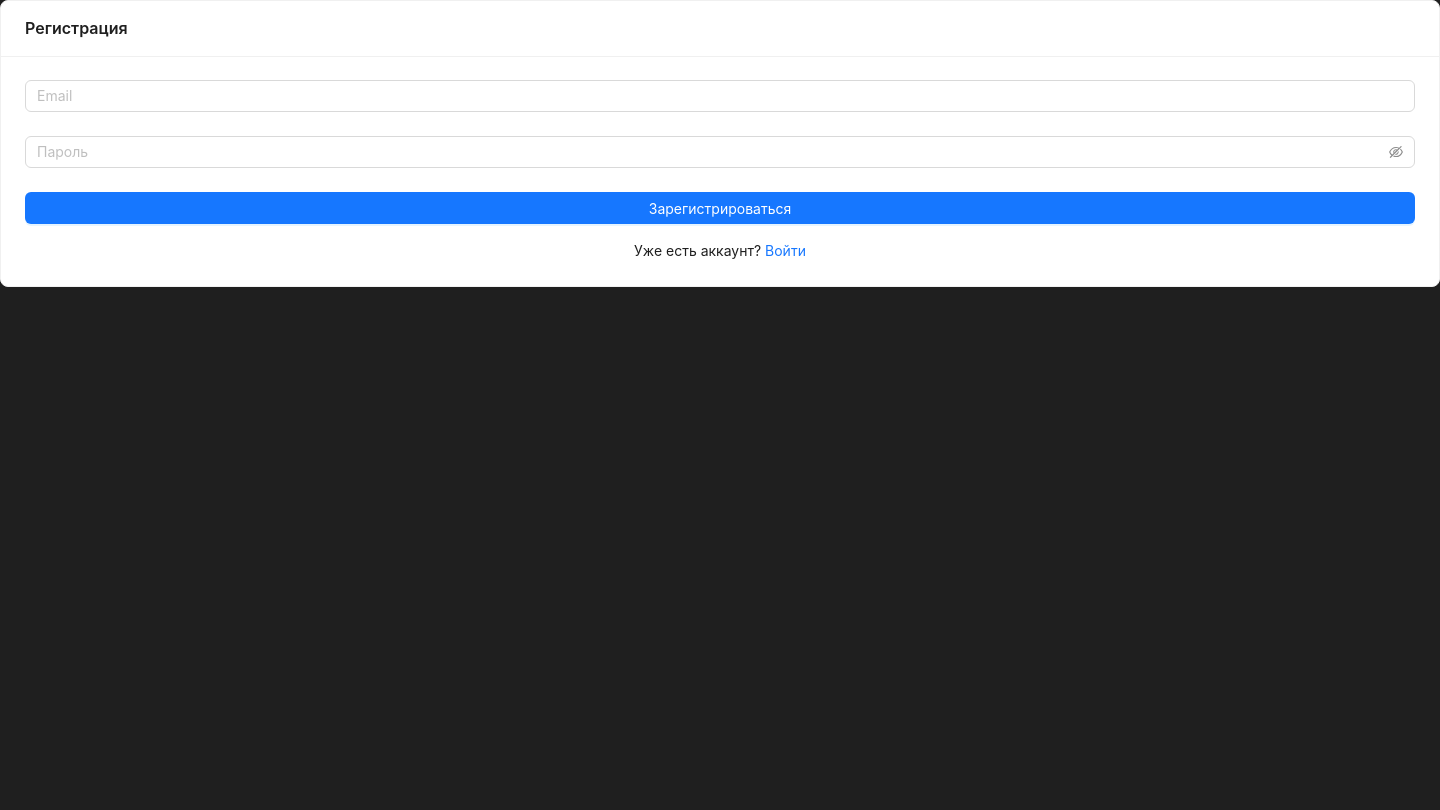
Test case: RegisterForm › при успешной регистрации открывает модалку со ссылкой
Type "new@test.com" into the field with placeholder "Email" at [720, 96], box [25, 80, 1415, 112]
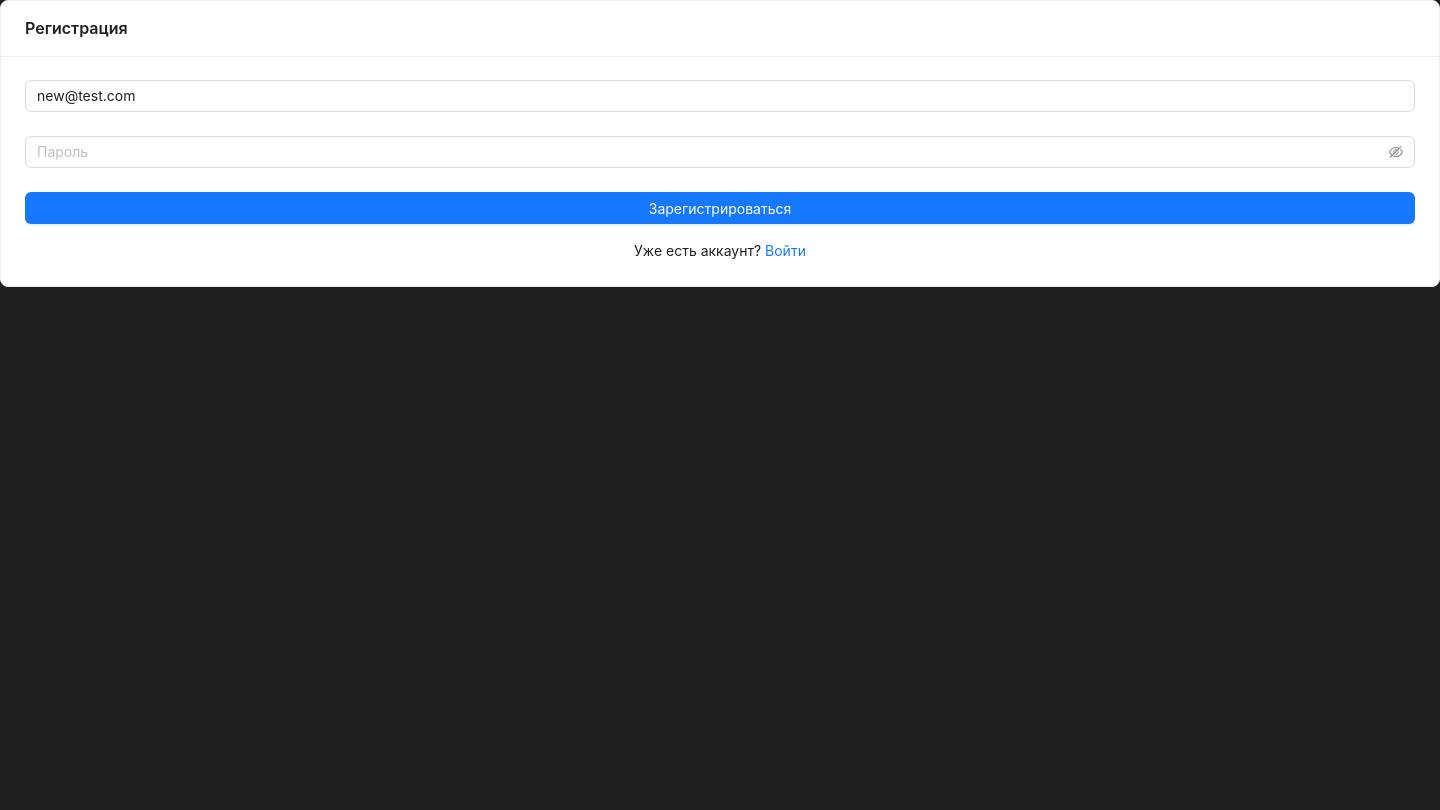
Type "123456" into the password field with placeholder "Пароль" at [711, 152], box [37, 141, 1385, 163]
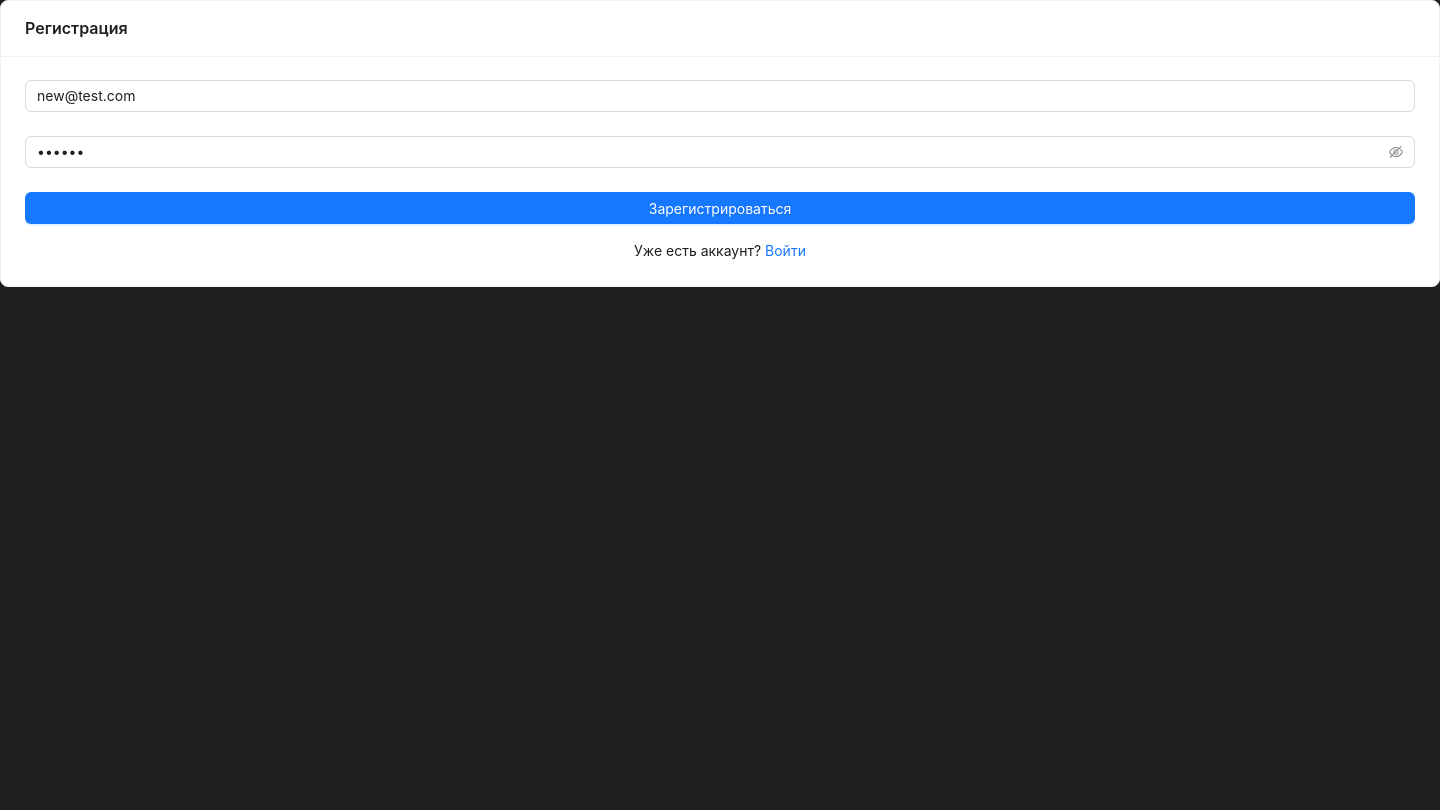
Click the button "Зарегистрироваться" at [720, 208], box [25, 192, 1415, 224]
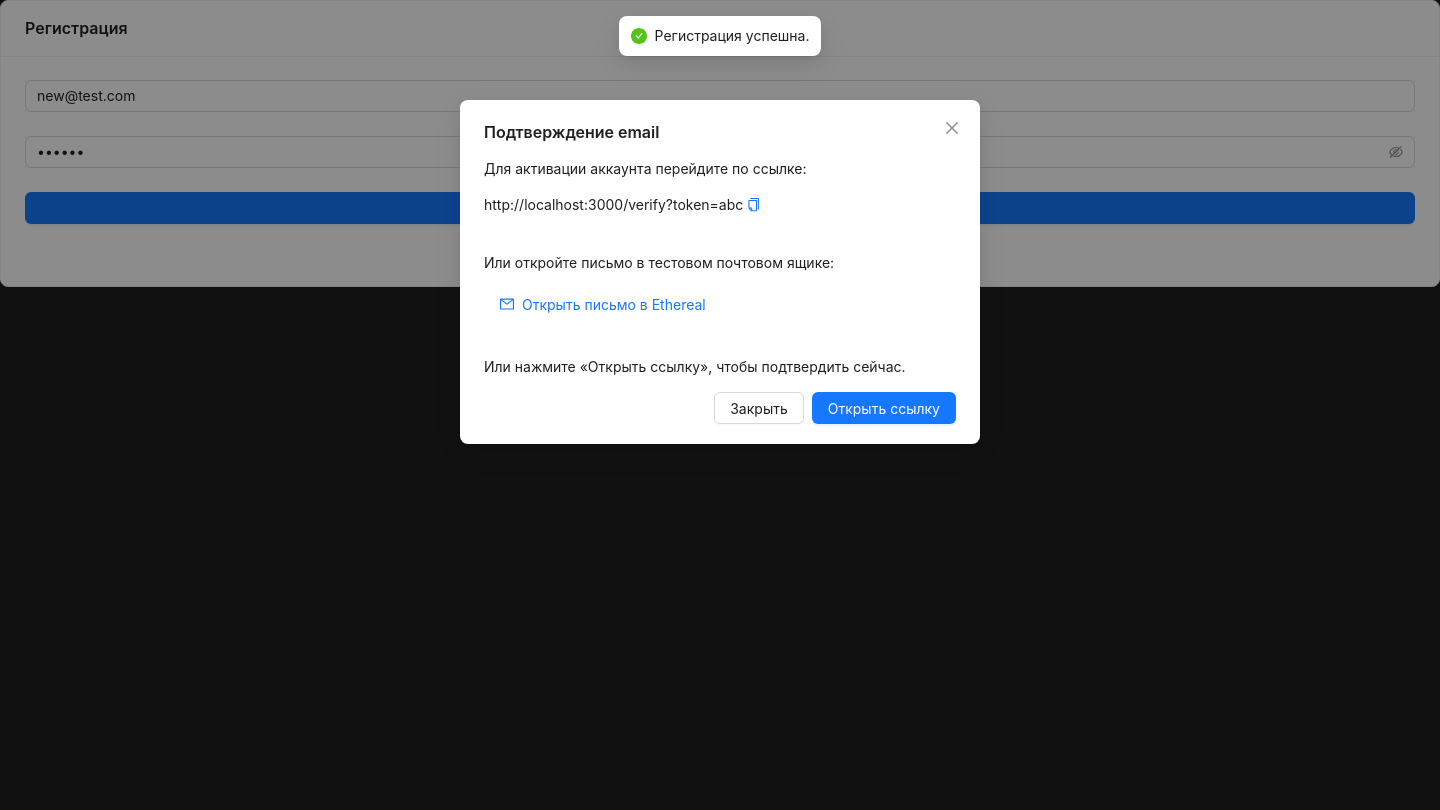
Now the text "Подтверждение email" is shown, box [484, 122, 659, 142]
Now the text "http://localhost:3000/verify?token=abc" is shown, box [484, 196, 761, 213]
